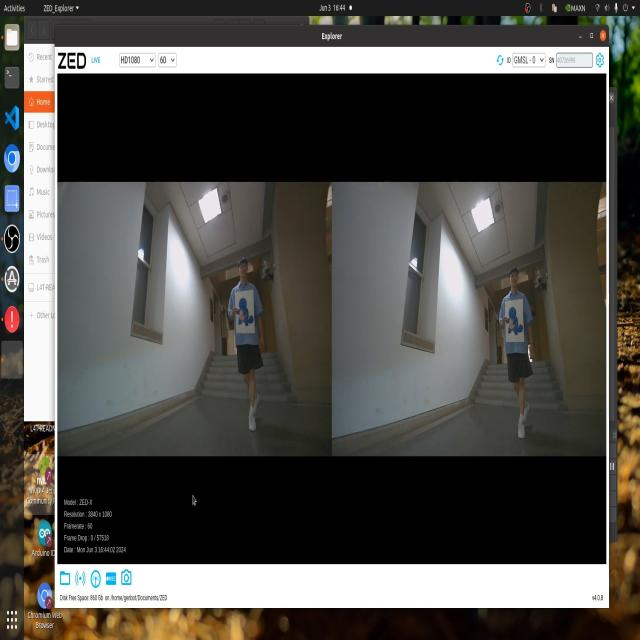blue: (501, 303, 524, 338), (235, 296, 254, 332)
